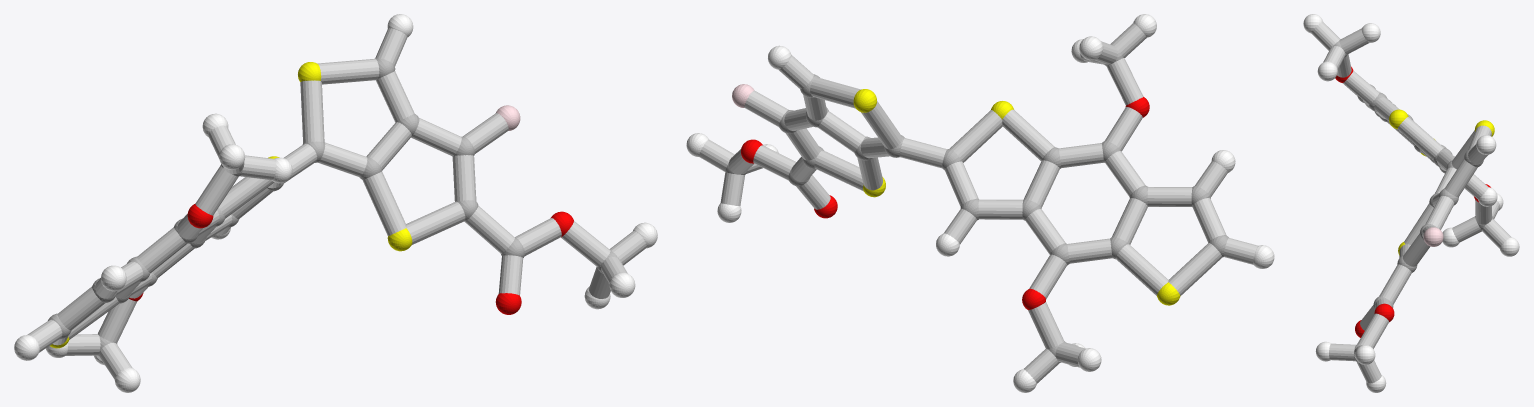
File: Dimethoxy_Benzodithiophene_Phi_15_Theta_100_Methylcarbonyl_3_Fluoro_Thienothiophene.glb
3 views of the same model, side by side, from view 1: azimuth 30°, elevation 25°; view 2: azimuth 150°, elevation 25°; view 3: azimuth 270°, elevation 25° (orthographic). The views are drawn at different scales.
Visible parts, largest first — view 1: grp15205, grp8689, grp1, grp13395, grp7241; view 2: grp15205, grp8689, grp1, grp7241, grp13395; view 3: grp15205, grp8689, grp1, grp13395, grp7241, grp14843.
Boxes of the visible parts, bbox=[...] form: grp15205: bbox=[27, 28, 646, 379]; grp8689: bbox=[14, 14, 657, 392]; grp1: bbox=[48, 57, 618, 356]; grp13395: bbox=[129, 204, 573, 314]; grp7241: bbox=[50, 62, 412, 348]; grp15205: bbox=[699, 23, 1258, 383]; grp8689: bbox=[686, 14, 1274, 392]; grp1: bbox=[725, 44, 1228, 362]; grp7241: bbox=[853, 89, 1180, 305]; grp13395: bbox=[741, 97, 1149, 309]; grp15205: bbox=[1311, 22, 1511, 383]; grp8689: bbox=[1303, 14, 1519, 392]; grp1: bbox=[1333, 40, 1493, 362]; grp13395: bbox=[1335, 66, 1490, 337]; grp7241: bbox=[1389, 109, 1494, 255]; grp14843: bbox=[1423, 227, 1443, 246].
Bounding box in the file's own units: 16.95 × 7.97 × 6.49.
